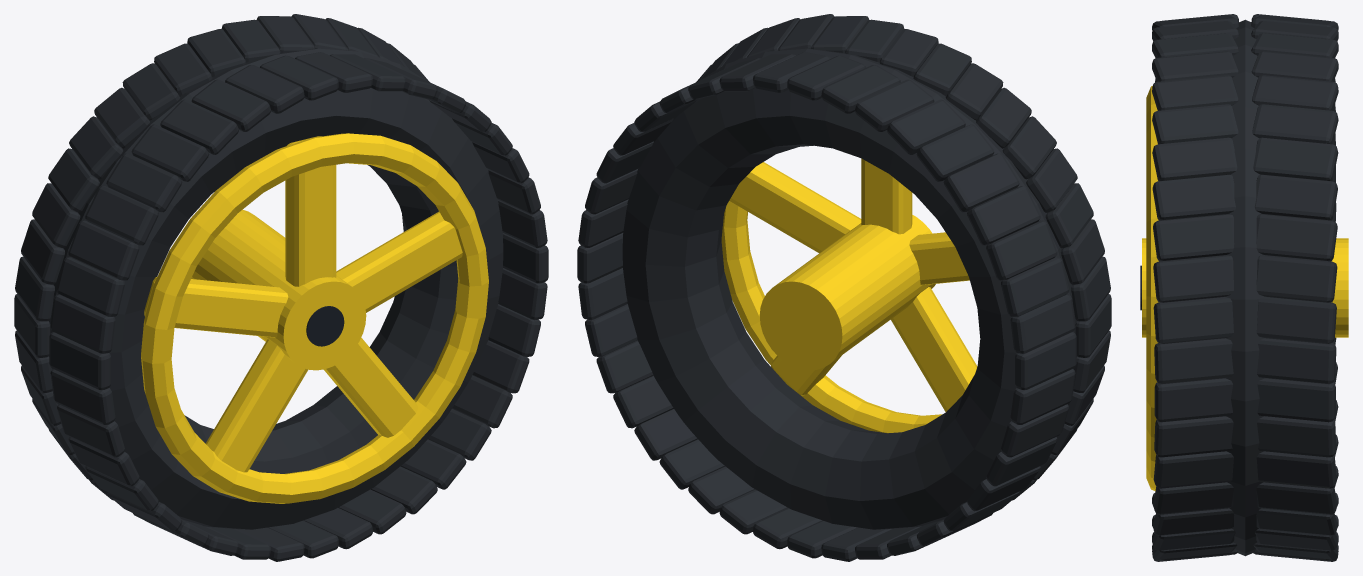
File: robot-wheel.glb
3 renders of one model, left to right at view 1: azimuth 30°, elevation 25°; view 2: azimuth 150°, elevation 25°; view 3: azimuth 270°, elevation 25°, orthographic. The views are drawn at different scales.
Visible parts, largest first — view 1: Static body • rubber, Static body • yellow, Static body • black; view 2: Static body • rubber, Static body • yellow; view 3: Static body • rubber, Static body • yellow.
Boxes of the visible parts, left/top/right/bottom form: Static body • rubber: left=14, top=14, right=548, bottom=561; Static body • yellow: left=141, top=133, right=488, bottom=503; Static body • black: left=306, top=306, right=344, bottom=346; Static body • rubber: left=577, top=14, right=1111, bottom=561; Static body • yellow: left=721, top=158, right=977, bottom=433; Static body • rubber: left=1152, top=14, right=1338, bottom=561; Static body • yellow: left=1142, top=86, right=1348, bottom=491.
Size of the model in its own units: 67.27 by 65.4 by 25.2.
